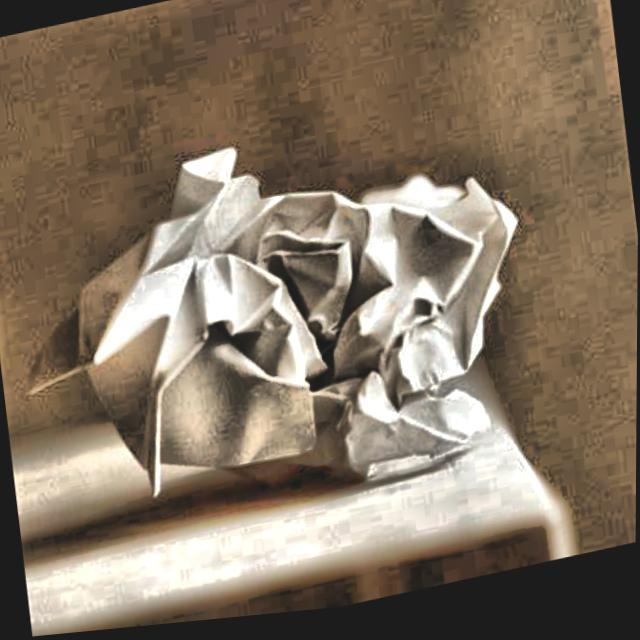Paper: (0, 50, 557, 569)
